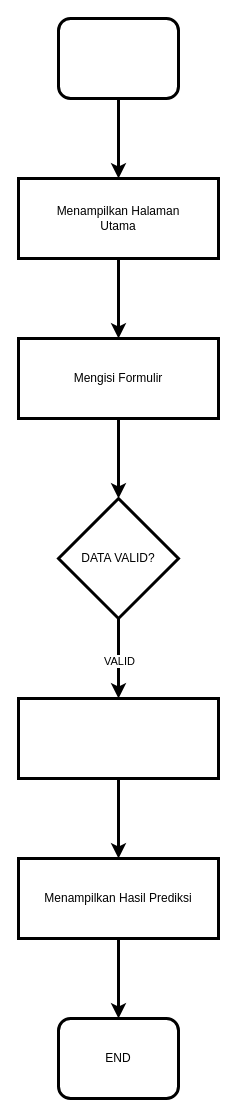
This 237x1117 diagram has some shape labels left out. The shapes that lost their labels are listed below. From the top down, each one's centre as x and y in pixels, then its label:
point (118, 58): START
point (118, 738): Preprocessing Data
